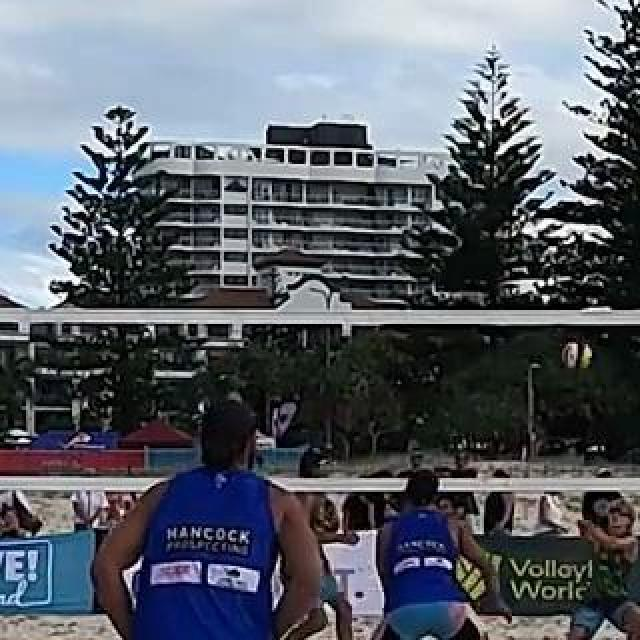volleyball: (561, 341, 591, 369)
